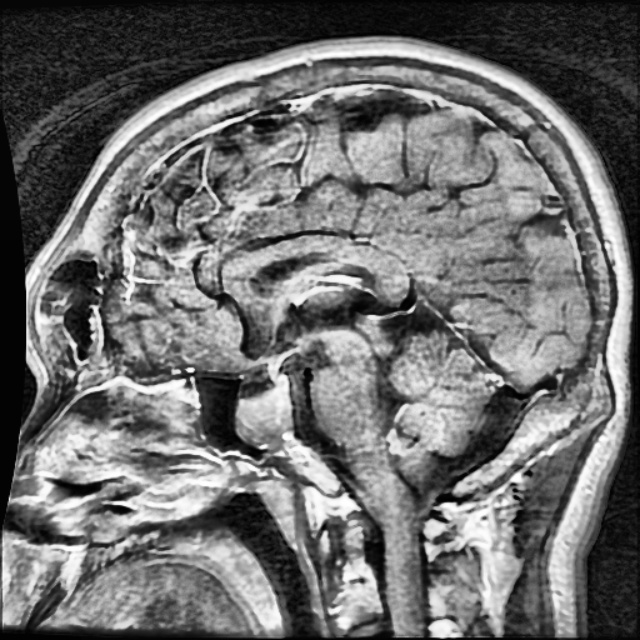Pituitary: (237, 375, 290, 444)
